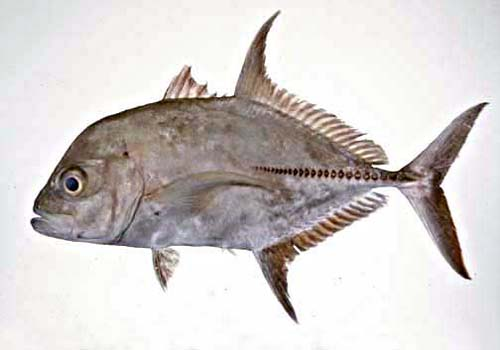fish: (31, 10, 490, 325)
